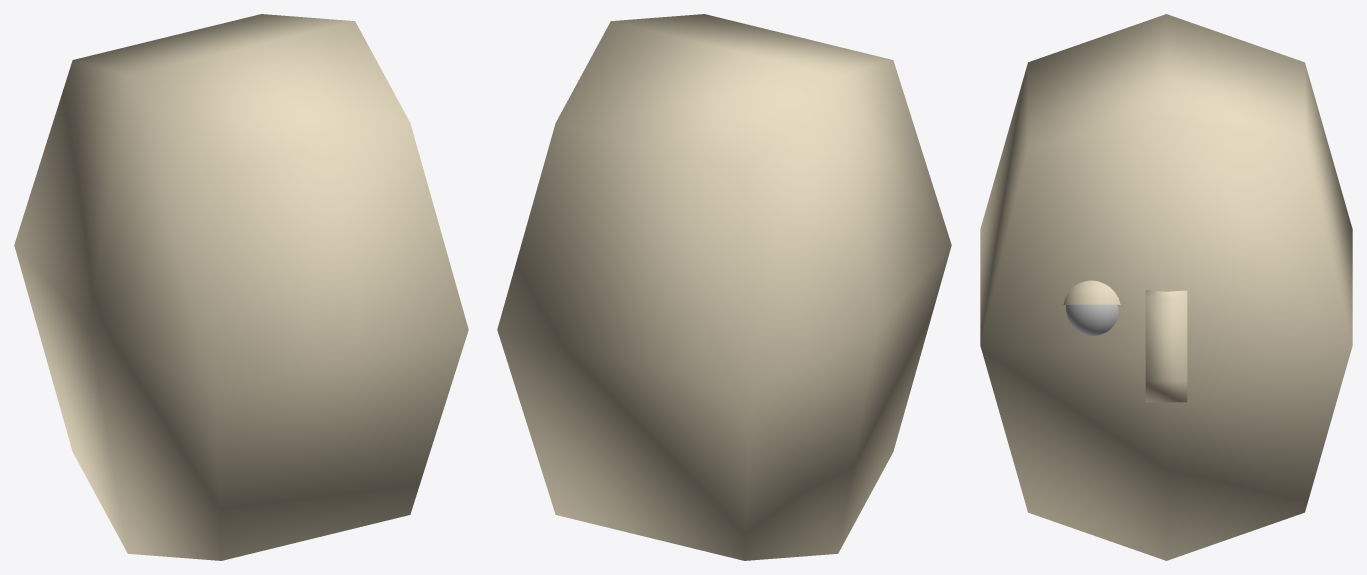
File: head.gltf
3 renders of one model, left to right at view 1: azimuth 30°, elevation 25°; view 2: azimuth 150°, elevation 25°; view 3: azimuth 270°, elevation 25°, orthographic. The views are drawn at different scales.
Visible parts, largest first — view 1: Cube; view 2: Cube; view 3: Cube, Cube.001, Sphere, Sphere.001.
Part boxes in pixels (<box>): Cube: <box>14,14,468,560</box>; Cube: <box>497,14,951,560</box>; Cube: <box>980,14,1352,560</box>; Cube.001: <box>1145,290,1187,402</box>; Sphere: <box>1066,304,1118,335</box>; Sphere.001: <box>1063,280,1120,304</box>.
Size of the model in its own units: 1.4 by 2.06 by 1.57.
